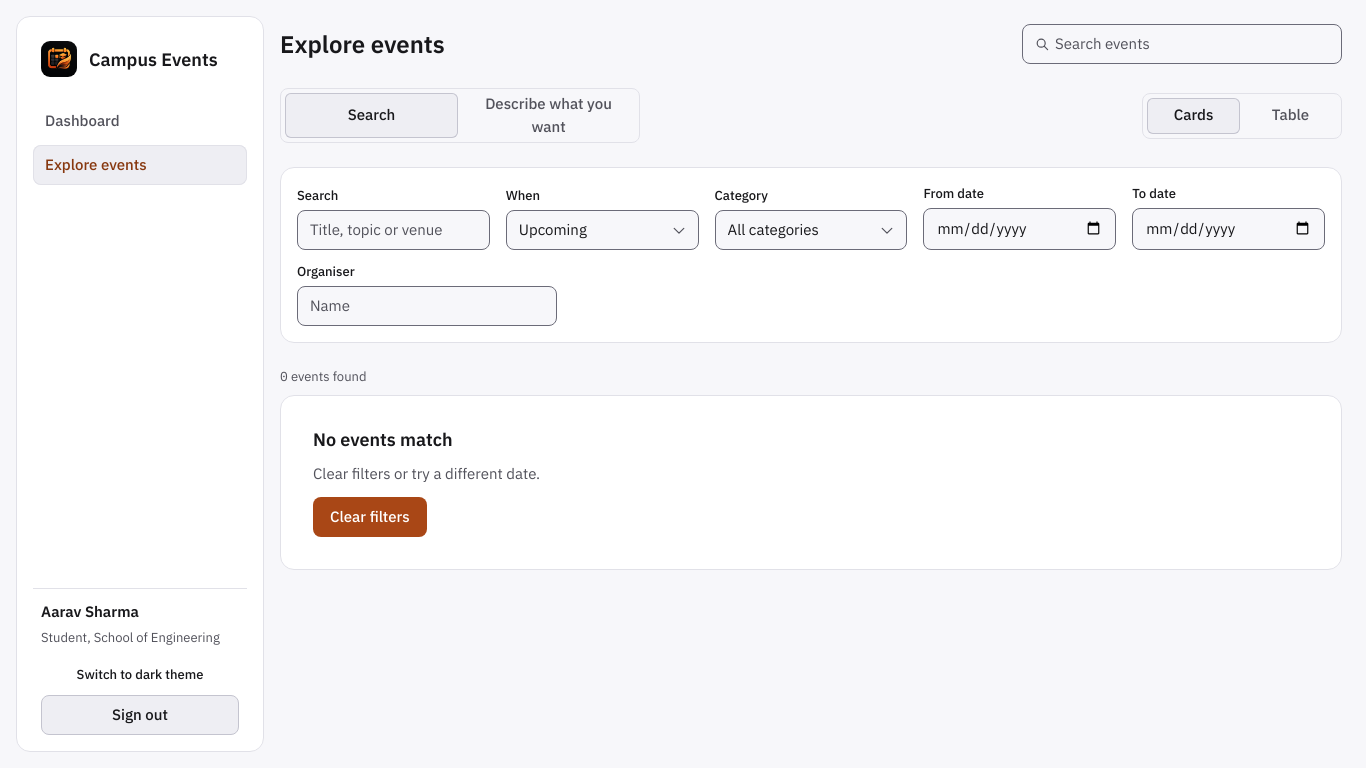
Test: explore with AI search › labels the keyword fallback honestly
Click the tab "Describe what you want": (548, 116) x1=462 y1=93 x2=635 y2=138
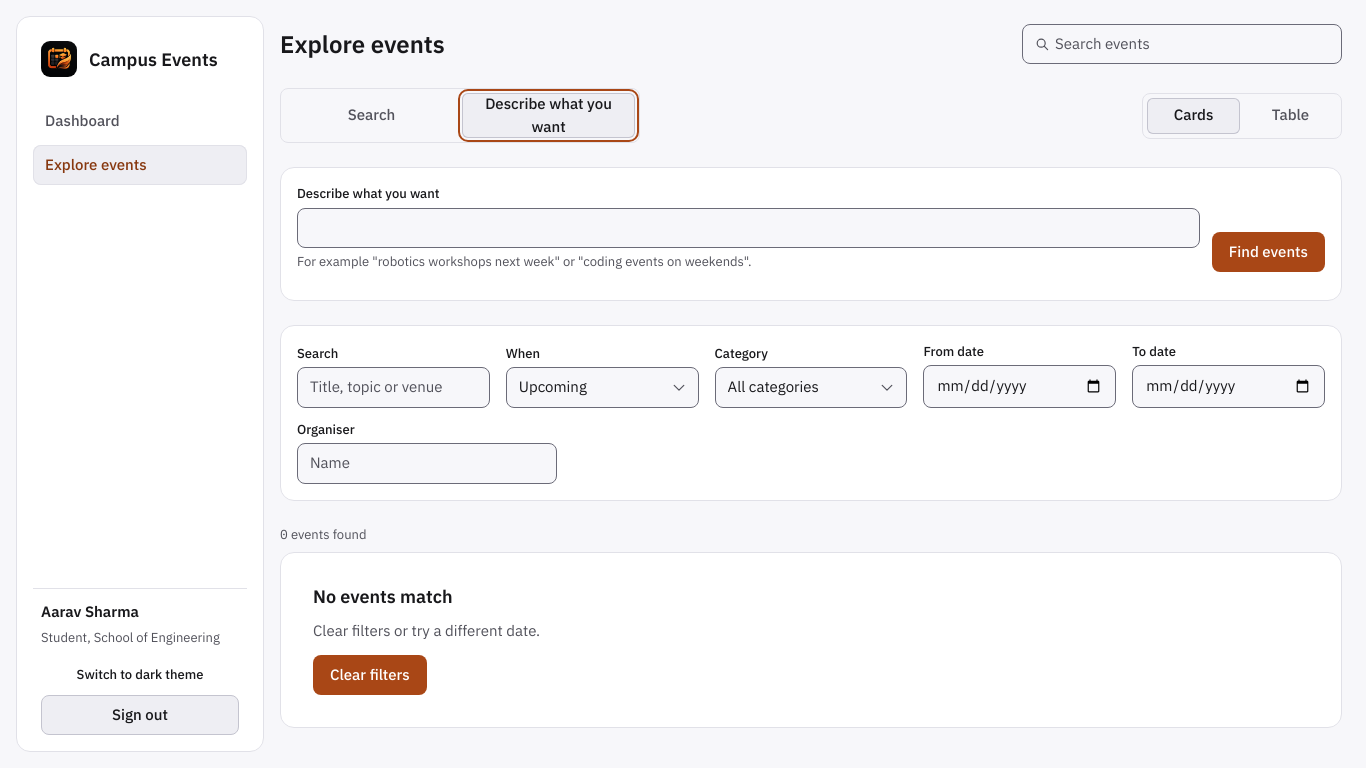
In the field labelled "Describe what you want": (748, 228) x1=297 y1=208 x2=1200 y2=248, type "coding"
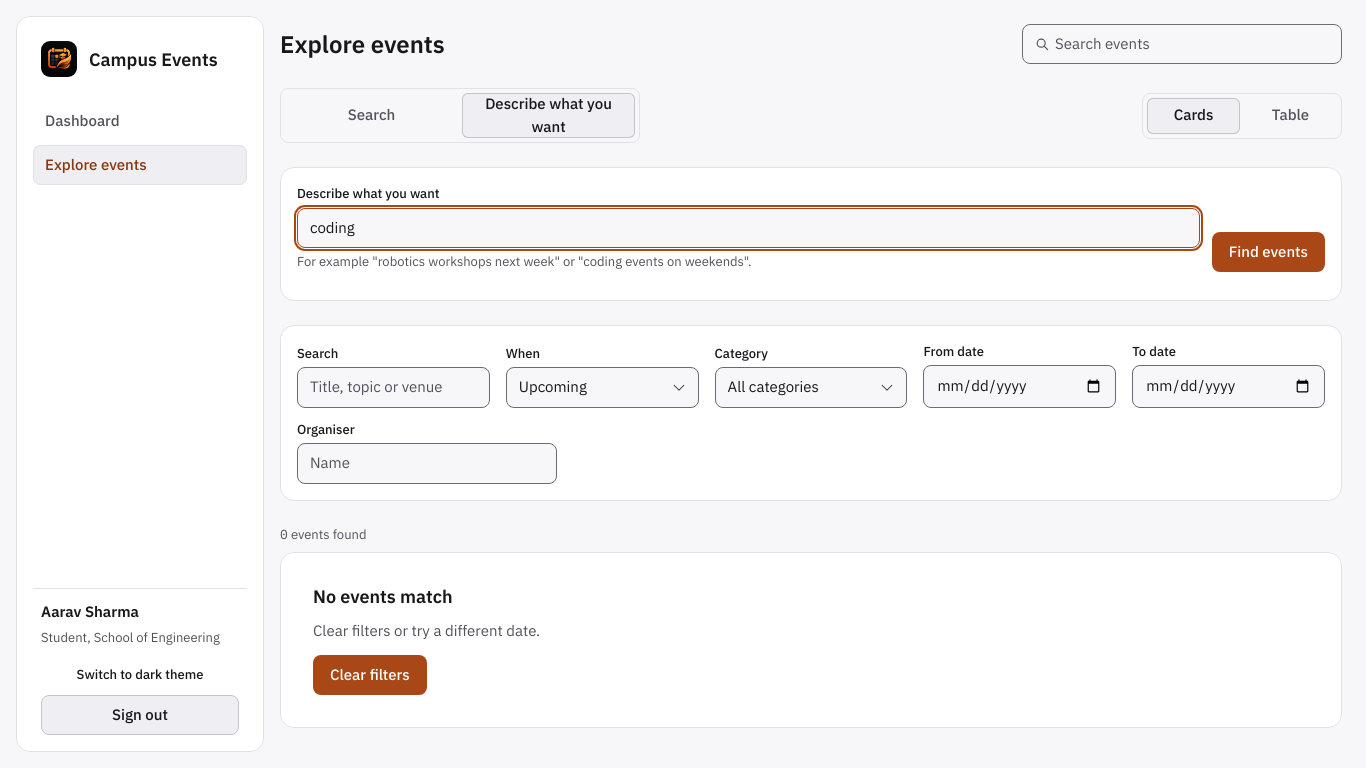
Click the button "Find events": (1268, 252) x1=1212 y1=232 x2=1325 y2=272
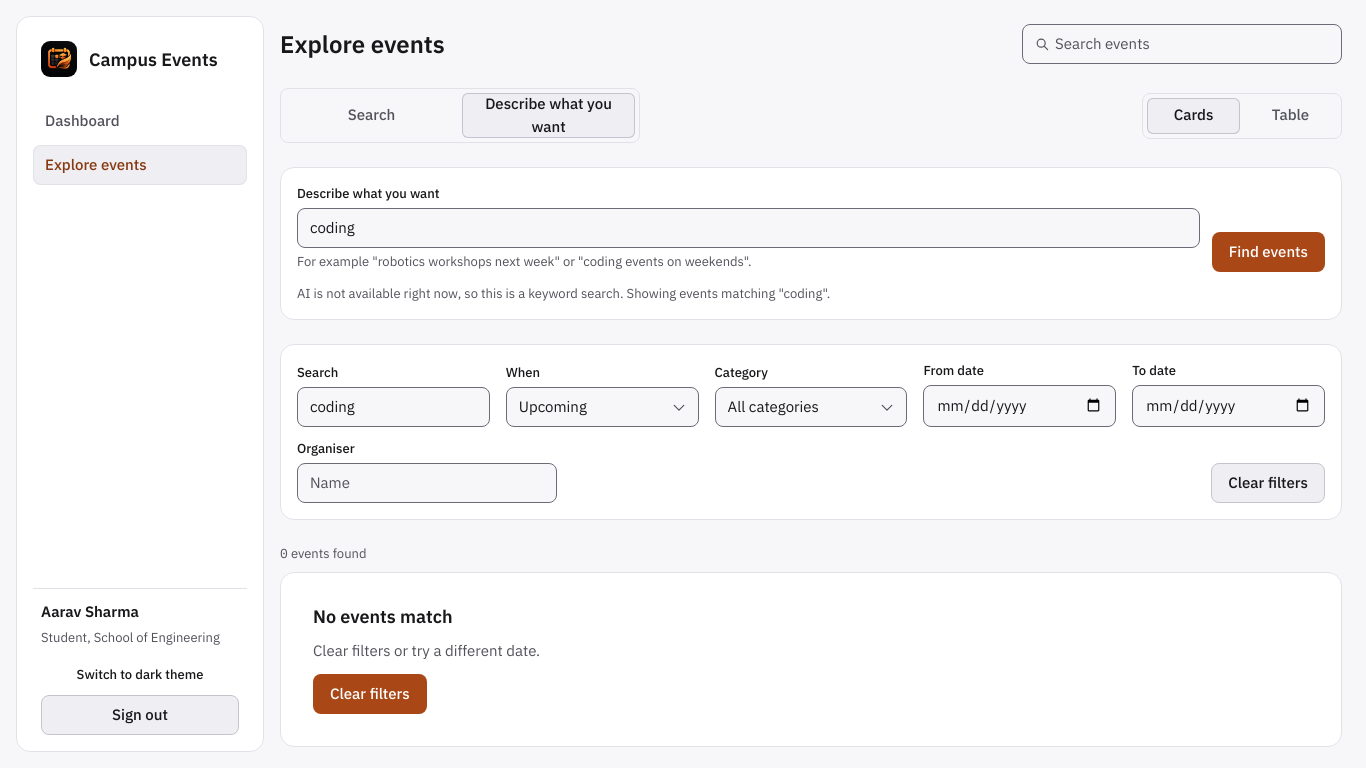
Expected: the text "AI is not available right now, so this is a keyword search" is shown, x1=297 y1=284 x2=830 y2=302
